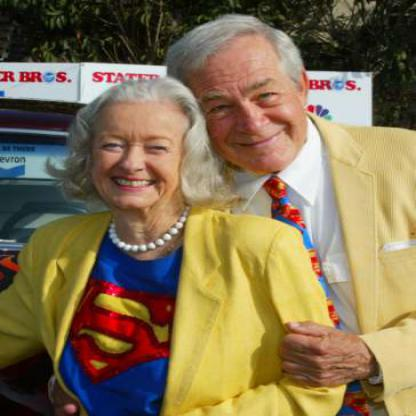face: (185, 21, 306, 178), (87, 86, 195, 211)
